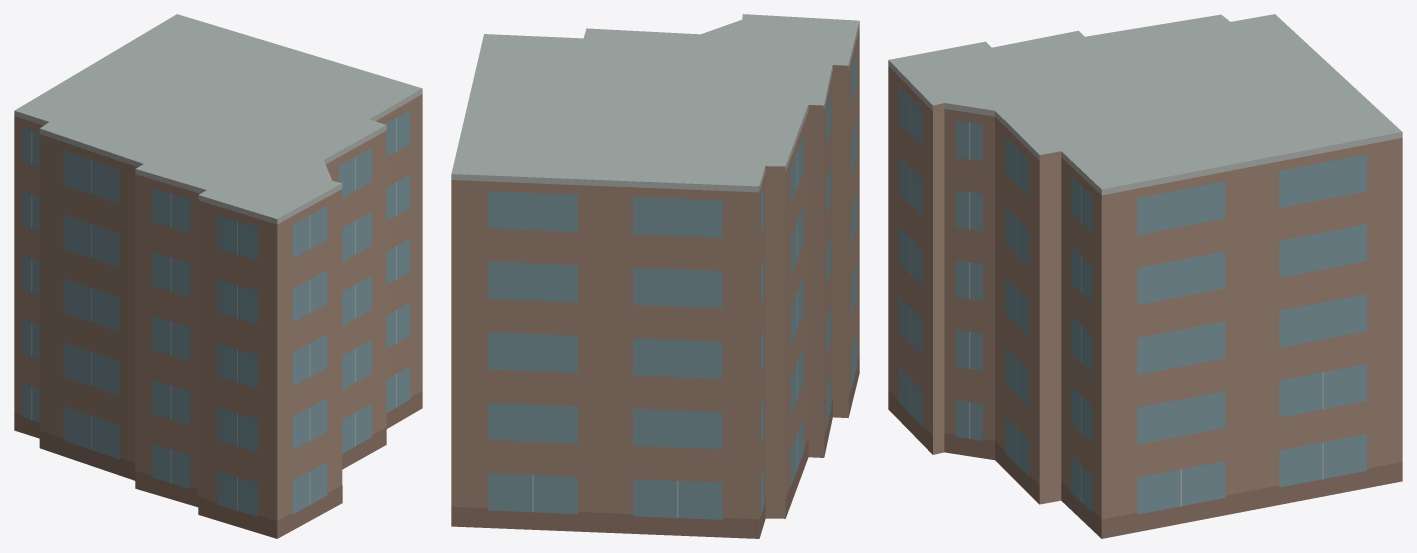
The model's file is survey-upis-32696199.glb.
3 renders of one model, left to right at view 1: azimuth 30°, elevation 25°; view 2: azimuth 150°, elevation 25°; view 3: azimuth 270°, elevation 25°, orthographic. The views are drawn at different scales.
Parts seen in each view (by area): view 1: survey-upis-32696199.tmp; view 2: survey-upis-32696199.tmp; view 3: survey-upis-32696199.tmp.
Part boxes in pixels (x1,y1,x2,y2): survey-upis-32696199.tmp: (14,14,422,538); survey-upis-32696199.tmp: (451,14,859,538); survey-upis-32696199.tmp: (888,14,1402,538).
Size of the model in its own units: 15.52 by 14.4 by 19.21.
